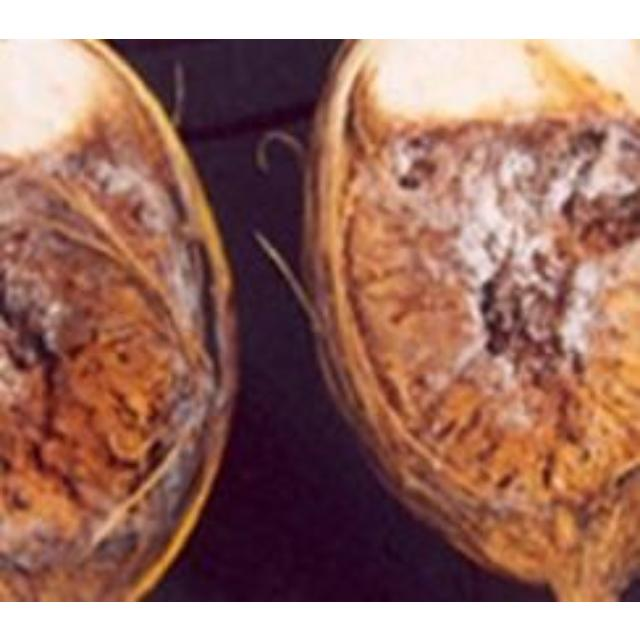damaged: (299, 38, 637, 599), (0, 38, 241, 599)
